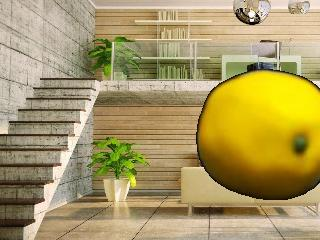lemon: (198, 71, 320, 199)
